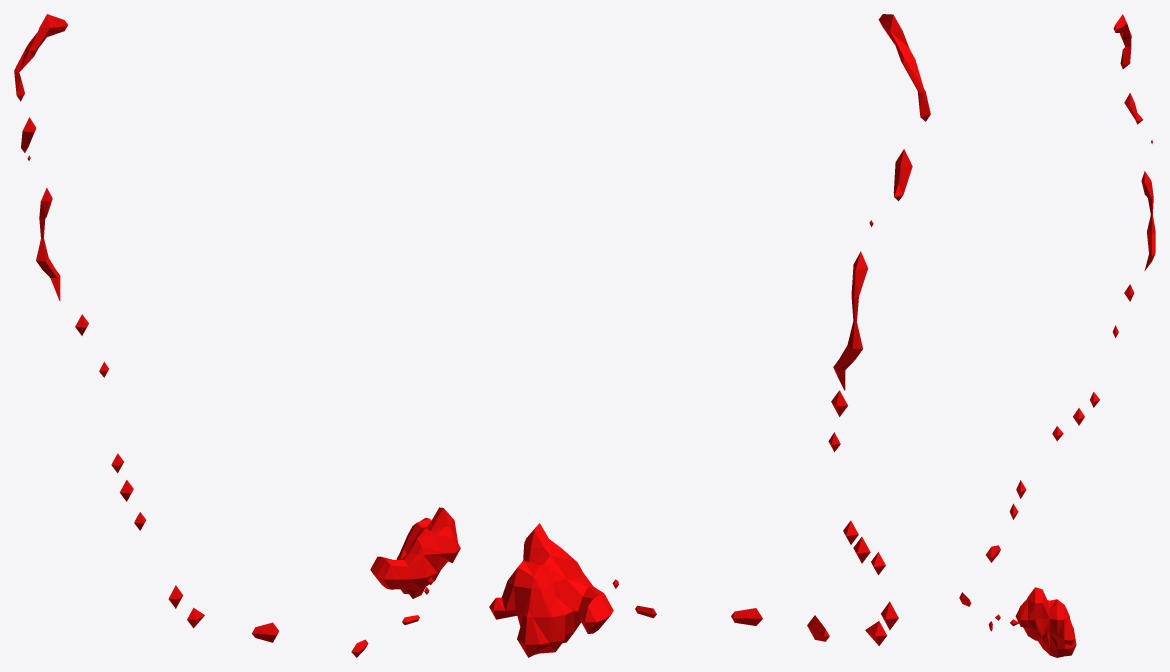
Rendered from cheA_coarse.dae.
3 renders of one model, left to right at view 1: azimuth 30°, elevation 25°; view 2: azimuth 150°, elevation 25°; view 3: azimuth 270°, elevation 25°, orthographic. The views are drawn at different scales.
Parts seen in each view (by area): view 1: cheA; view 2: cheA; view 3: cheA.
Part boxes in pixels (bbox=[...]): cheA: bbox=[14, 14, 460, 657]; cheA: bbox=[489, 14, 930, 657]; cheA: bbox=[959, 14, 1155, 657].
Size of the model in its own units: 360 by 555 by 192.
